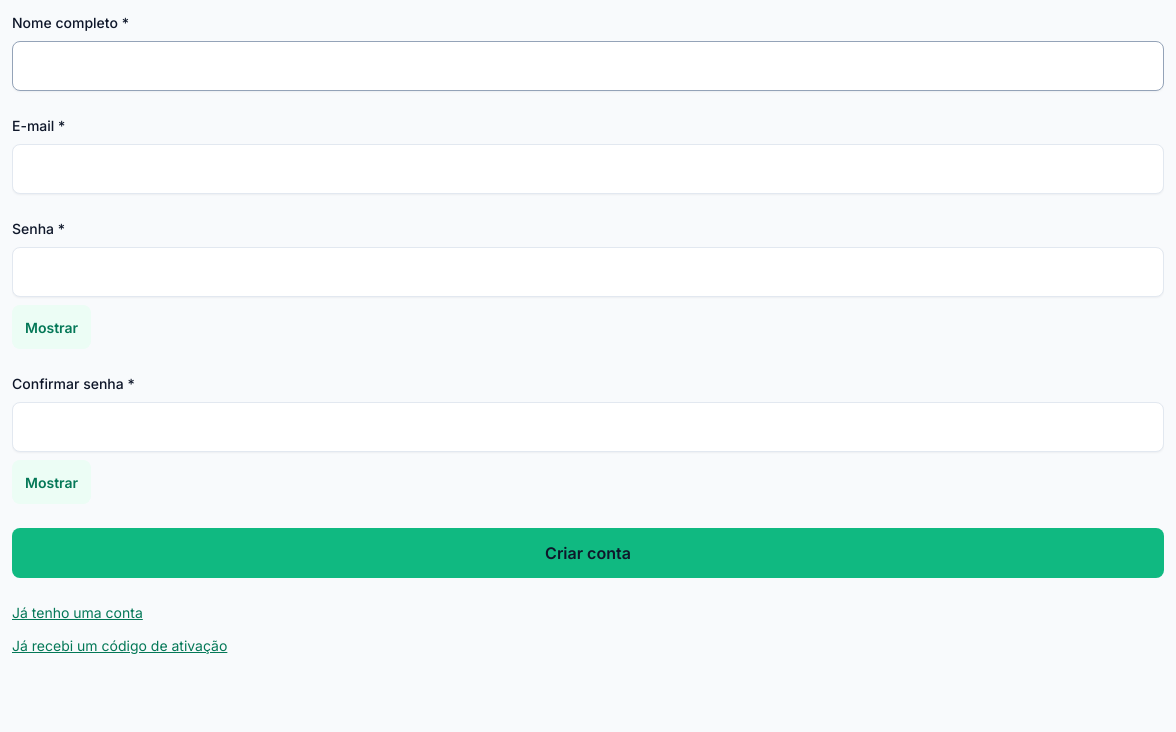
Test: registration form › rejects invalid email and mismatched passwords
The width and height of the screenshot is (1176, 732).
Type "Pessoa de teste" into the field labelled "Nome completo *" at (588, 66), box [12,41,1164,91]
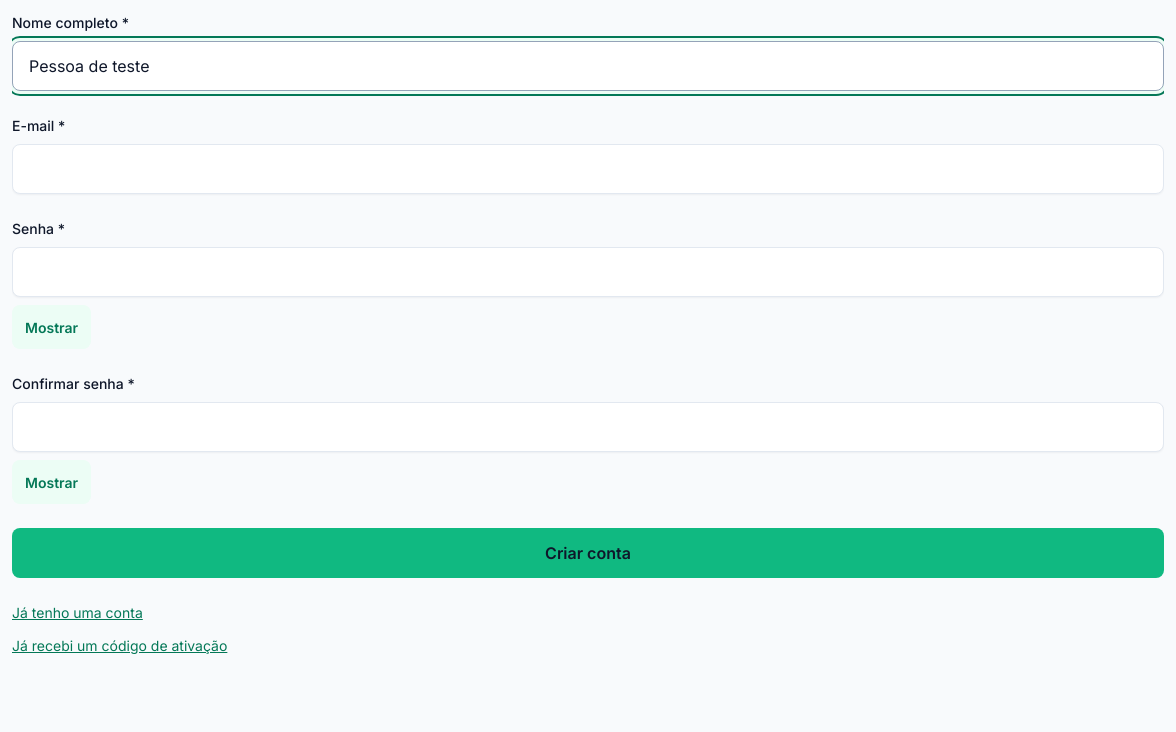
Type "test@example.com" into the field labelled "E-mail *" at (588, 169), box [12,144,1164,194]
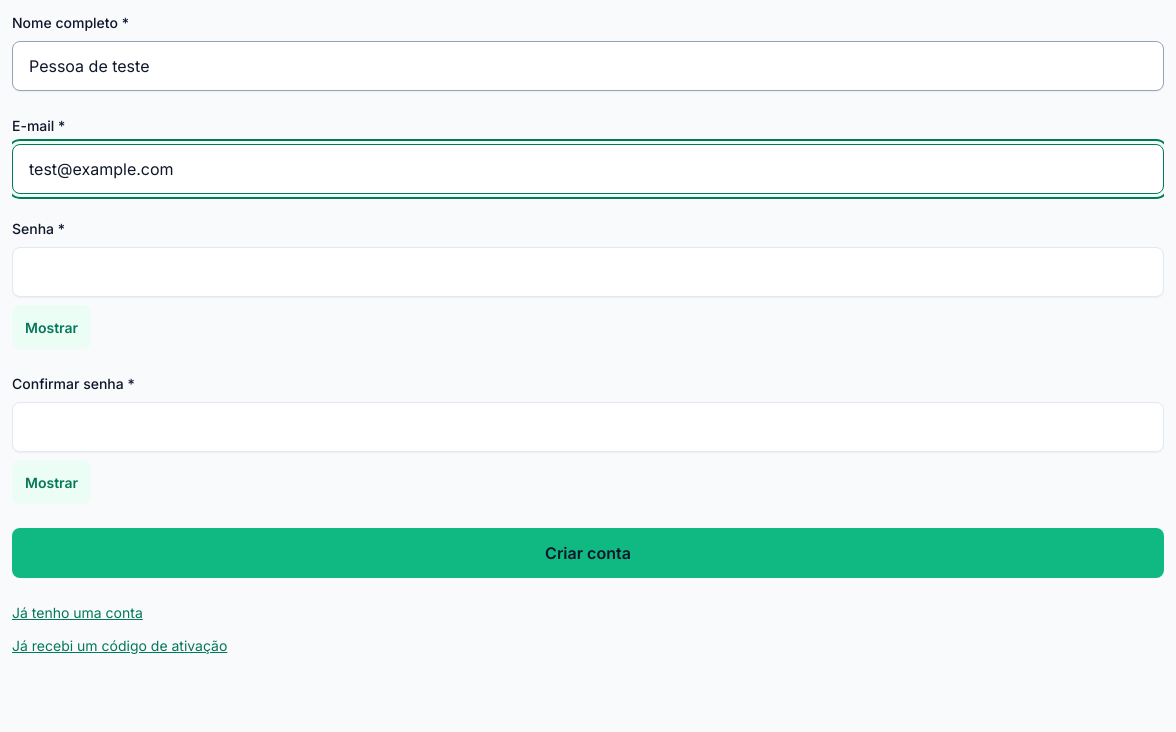
Type "x" into the password field labelled "Senha *" at (588, 272), box [12,247,1164,297]
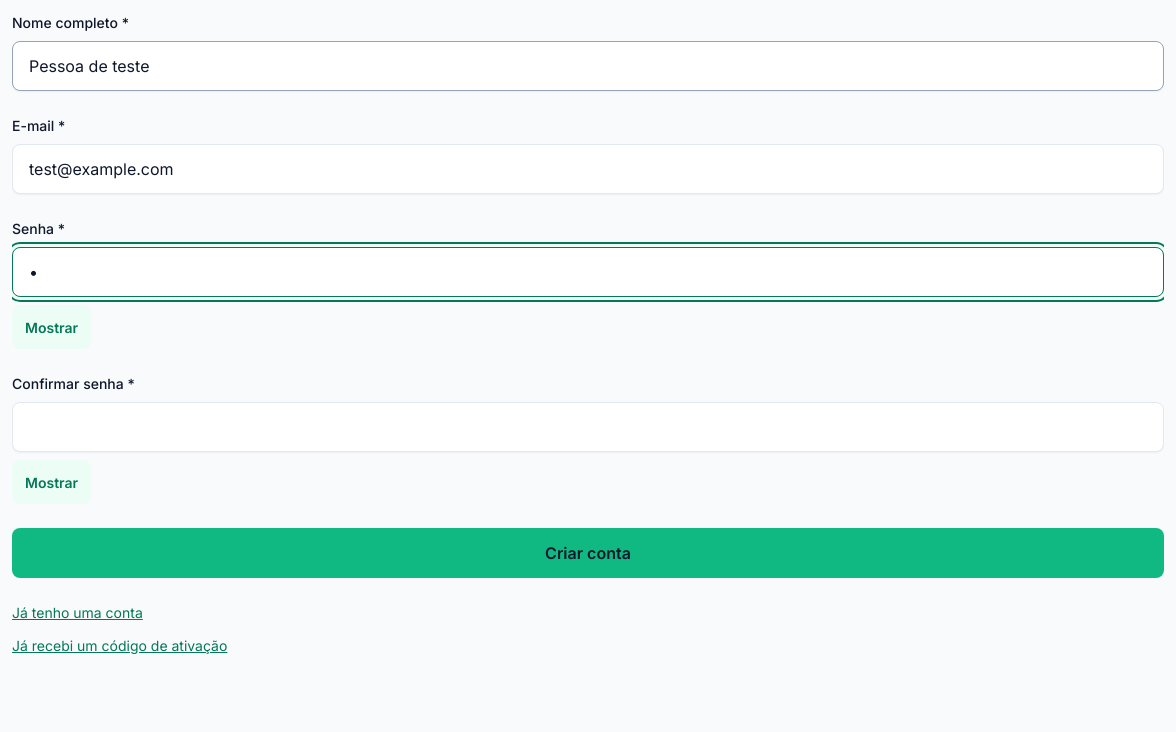
Type "different" into the password field labelled "Confirmar senha *" at (588, 427), box [12,402,1164,452]
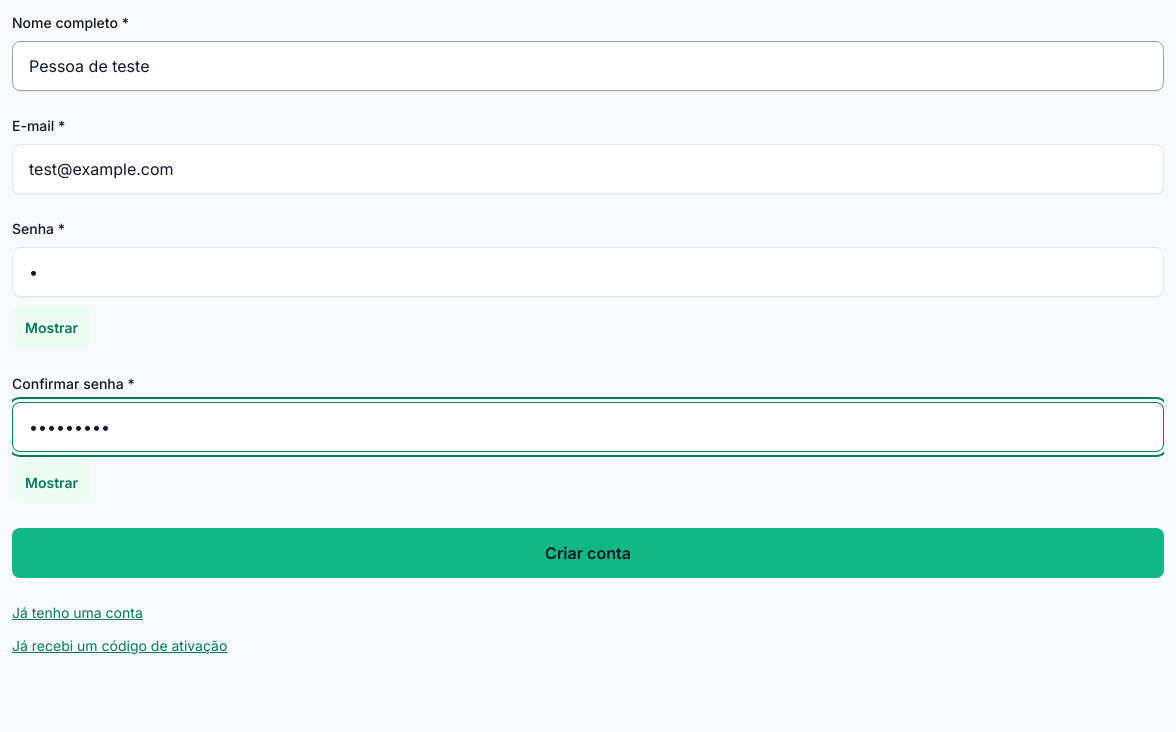
Replace the text in the field labelled "E-mail *" with "invalid" at (588, 169), box [12,144,1164,194]
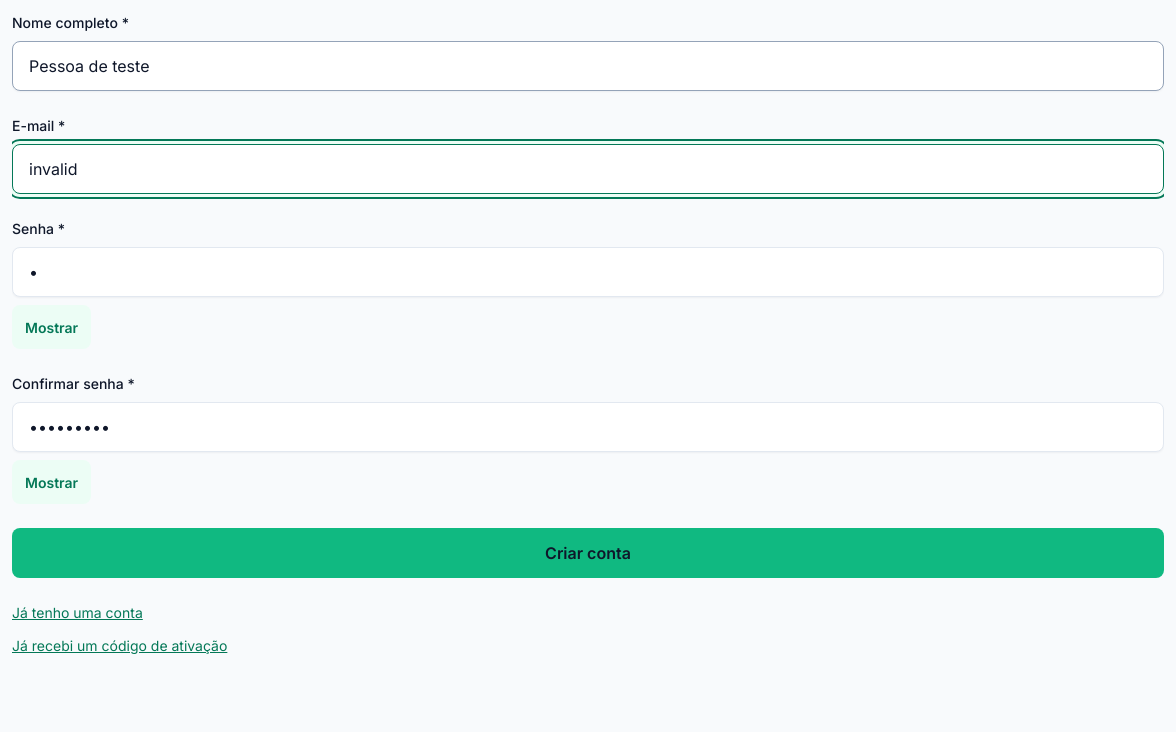
Click the button "Criar conta" at (588, 553), box [12,528,1164,578]
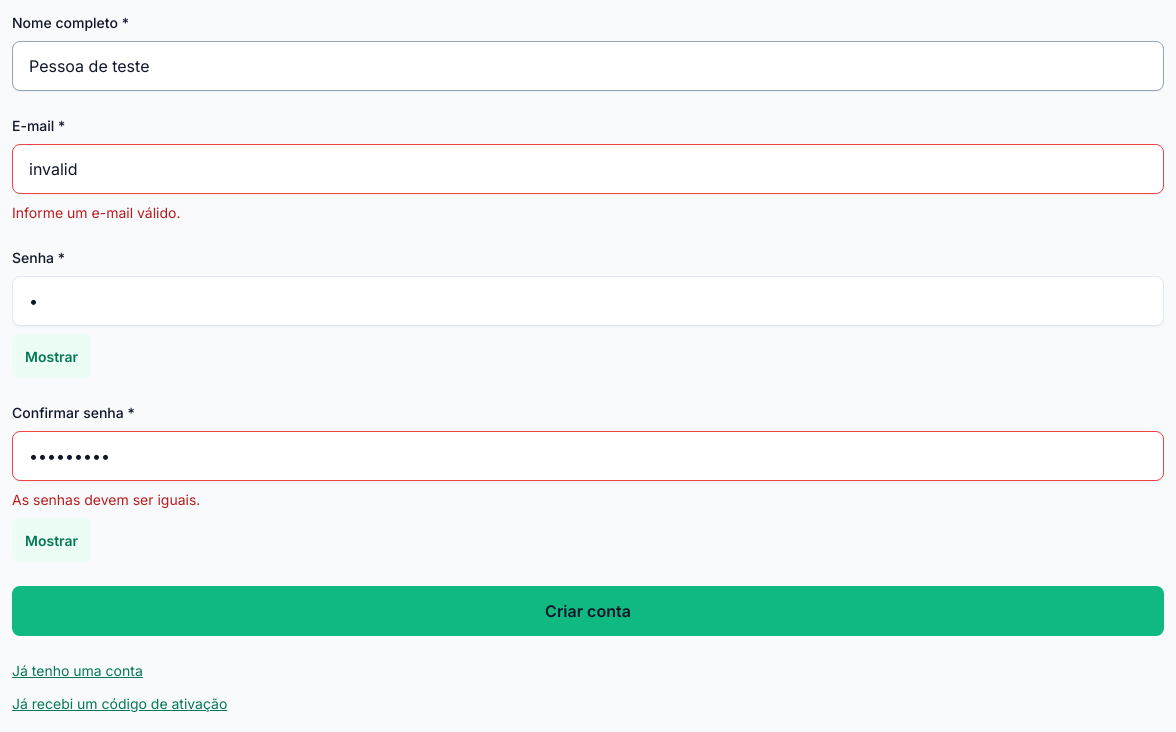
expect the text "Informe um e-mail válido." is shown: met, box [12,204,180,221]
expect the text "As senhas devem ser iguais." is shown: met, box [12,491,200,508]
